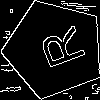R: (29, 24, 87, 74)
